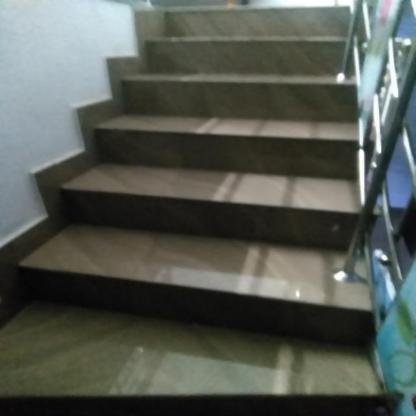stair: (22, 0, 373, 407)
